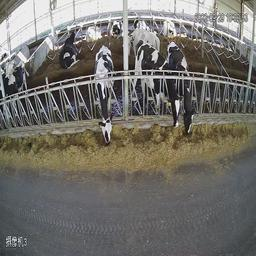cow: (136, 43, 179, 133), (93, 47, 117, 147), (180, 43, 197, 137), (60, 26, 83, 69), (86, 18, 100, 45), (159, 14, 175, 37), (131, 15, 149, 33), (111, 14, 123, 40)
